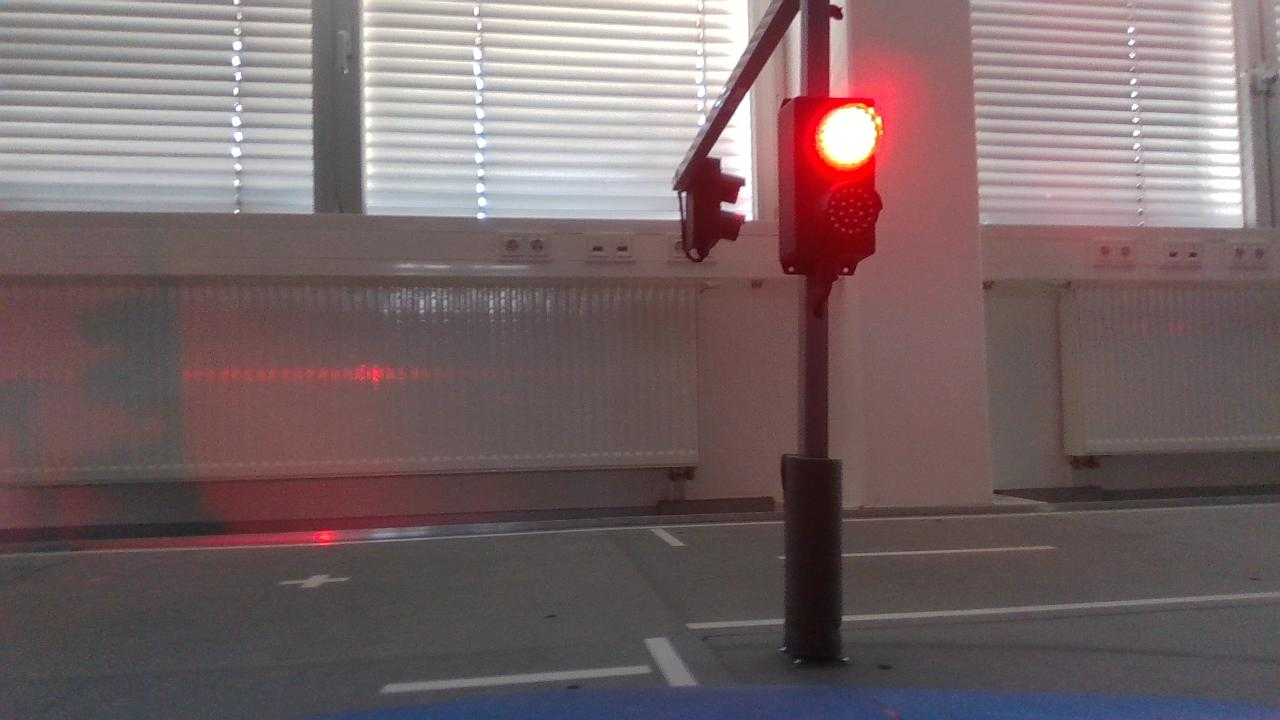traffic_light_red: (766, 77, 895, 294)
